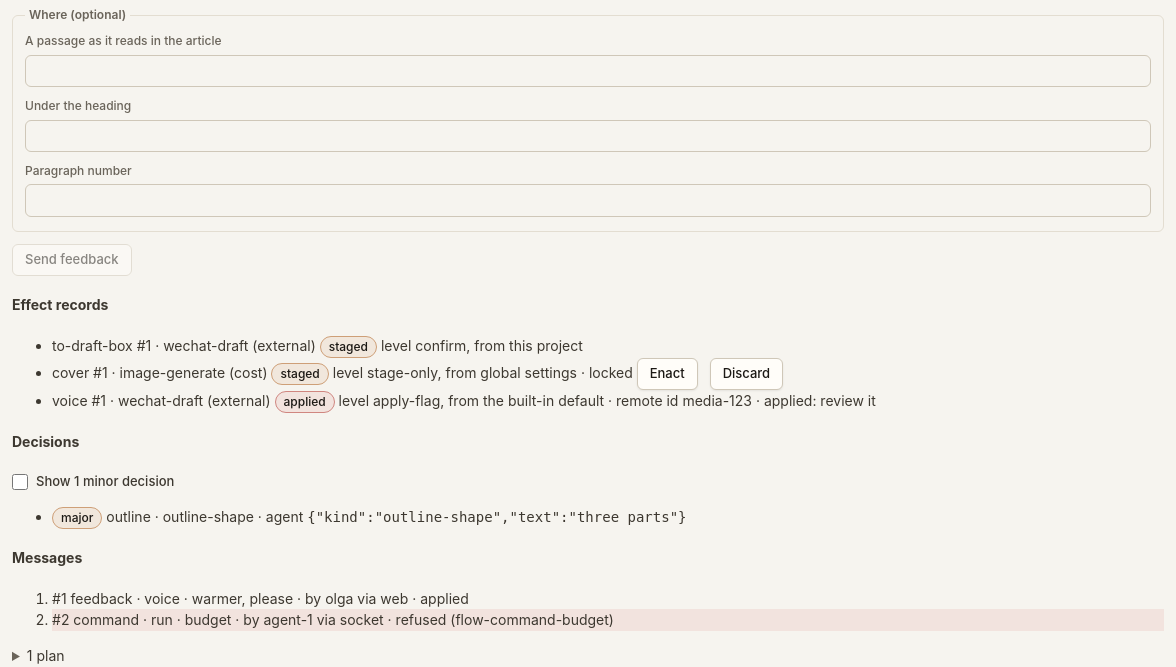
Test: messages, run commands and the pool (§8, §6.3) › shows major decisions and folds the minor ones (P5)
(page scrolled)
Click the checkbox labelled "Show 1 minor decision" at {"x": 20, "y": 482}, box [12, 474, 28, 490]
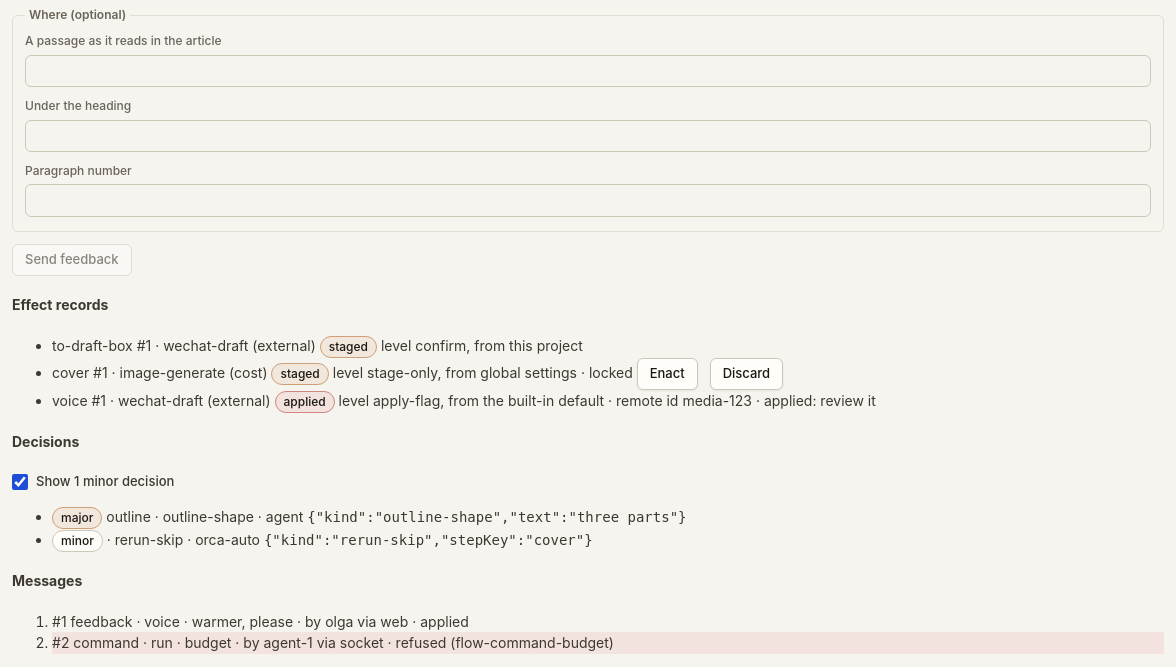
Now the number of list items with test id "flow-decision" is 2, box [52, 507, 686, 529]; [52, 530, 593, 552]
